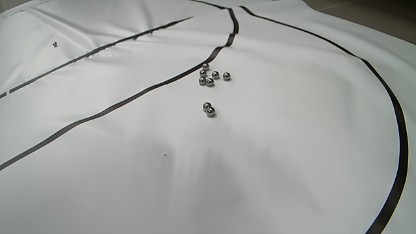ironball: (202, 102, 211, 112), (206, 107, 215, 117), (211, 70, 219, 79), (222, 72, 231, 80), (206, 78, 214, 87), (199, 69, 207, 78), (202, 63, 209, 71), (199, 77, 206, 85), (52, 41, 57, 47)
